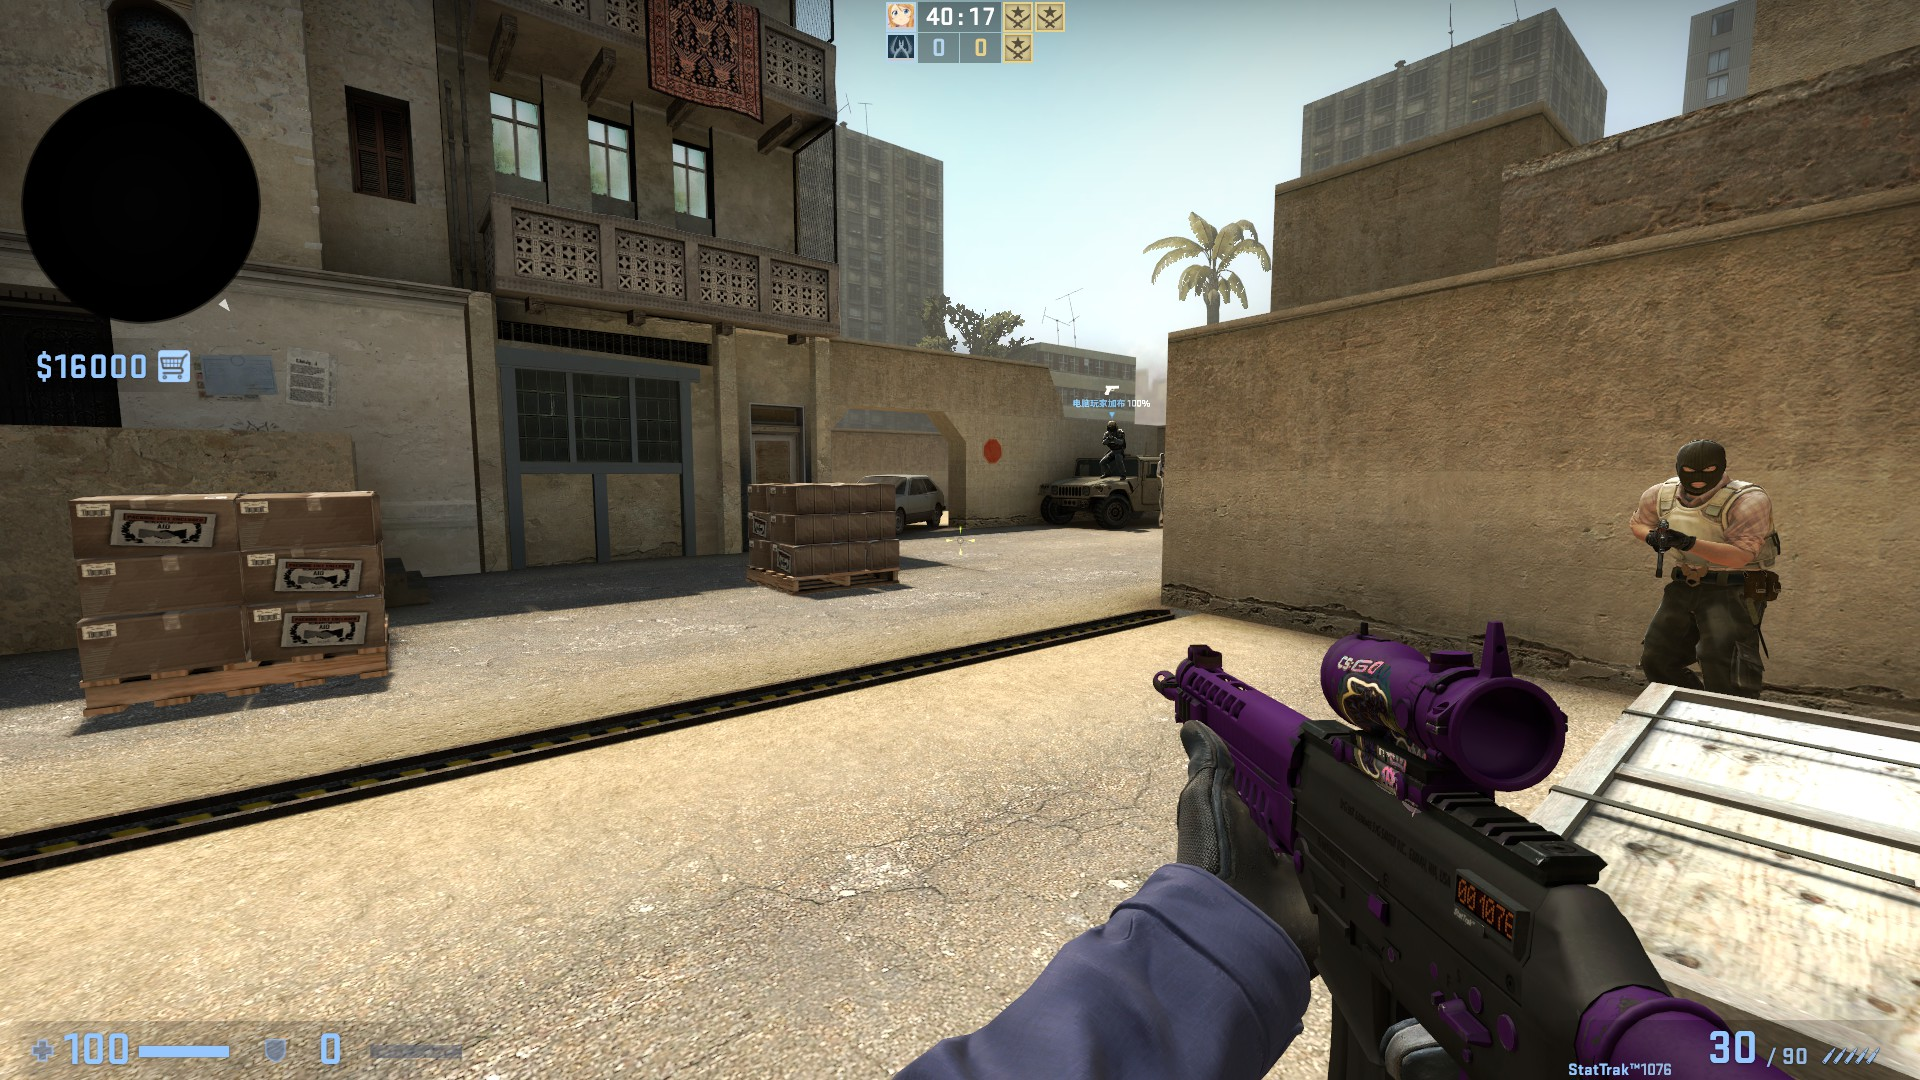head: (1672, 436, 1729, 500), (1106, 420, 1117, 434), (1159, 451, 1164, 464)
